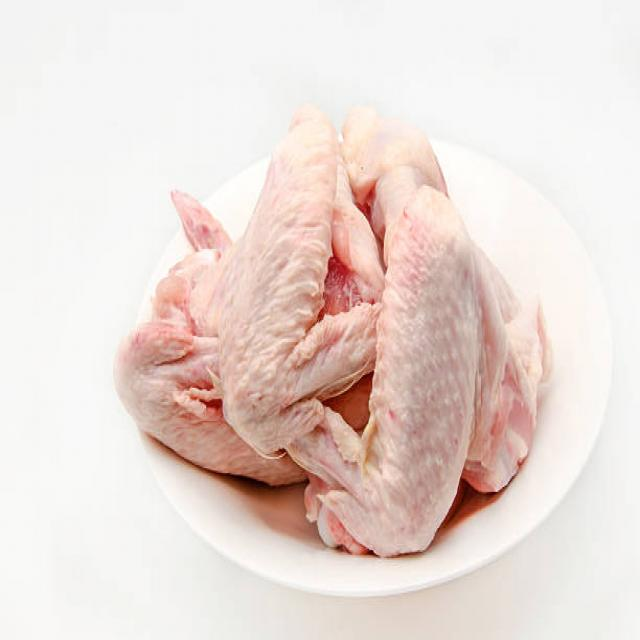chicken: (346, 192, 538, 564), (212, 98, 374, 442)
